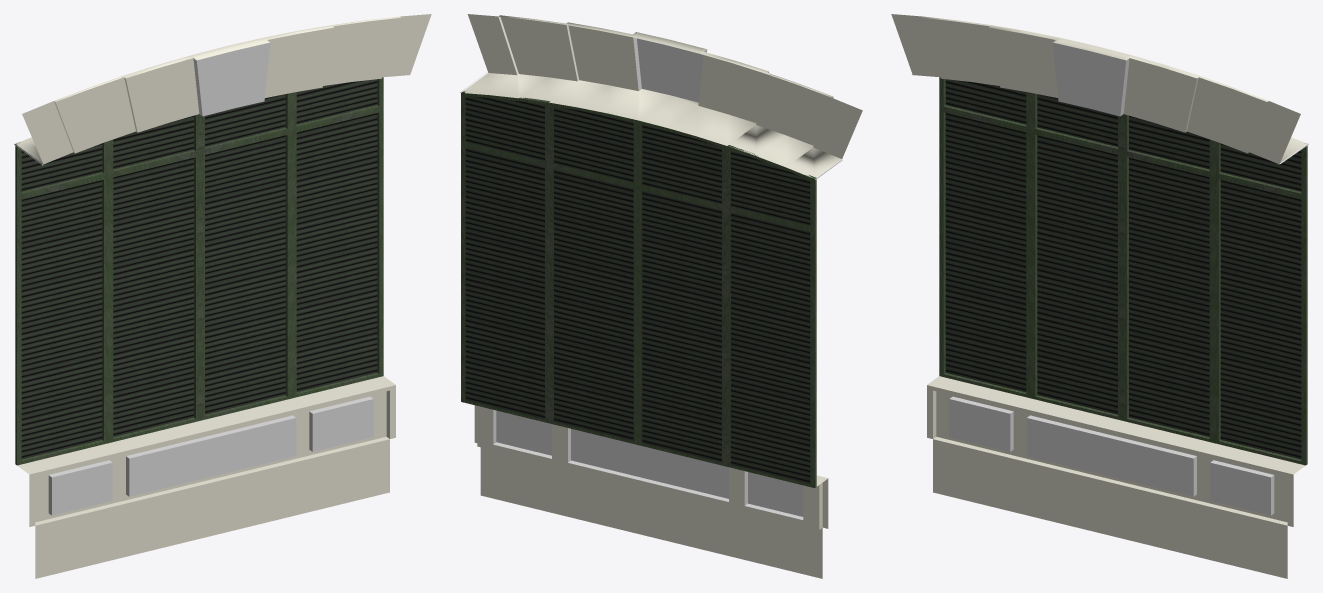
The model's file is window.glb.
3 renders of one model, left to right at view 1: azimuth 30°, elevation 25°; view 2: azimuth 150°, elevation 25°; view 3: azimuth 330°, elevation 25°, orthographic. The views are drawn at different scales.
Parts seen in each view (by area): view 1: _C-Component#1 (Loose Mesh).001; view 2: _C-Component#1 (Loose Mesh).001; view 3: _C-Component#1 (Loose Mesh).001.
Part boxes in pixels (bbox=[...]): _C-Component#1 (Loose Mesh).001: bbox=[14, 14, 431, 578]; _C-Component#1 (Loose Mesh).001: bbox=[460, 14, 862, 578]; _C-Component#1 (Loose Mesh).001: bbox=[891, 14, 1308, 578].
Size of the model in its own units: 2.22 by 2.58 by 0.3281.
Materials: 5 (2 with a texture image).
